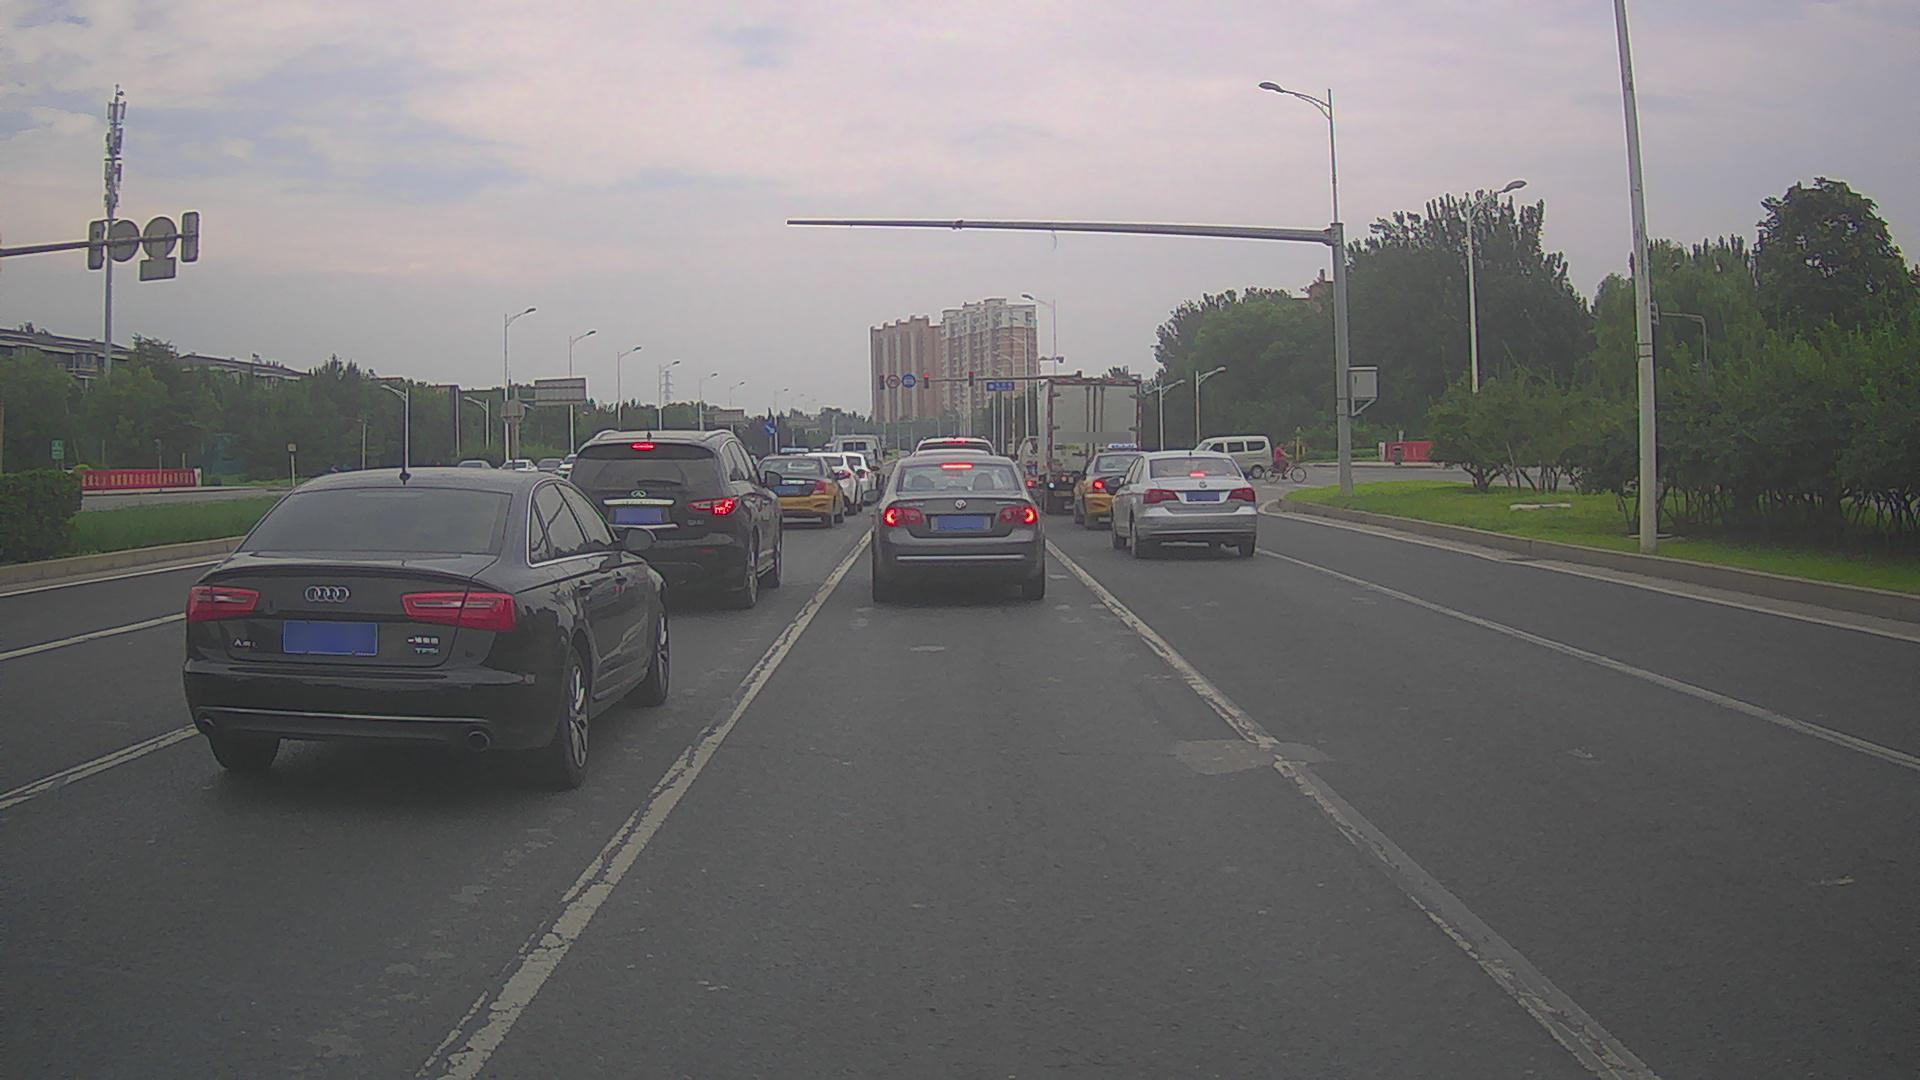car: (184, 469, 669, 791), (558, 428, 782, 609), (862, 454, 1045, 605), (1107, 450, 1258, 559), (1071, 442, 1165, 532), (754, 446, 845, 528), (783, 451, 864, 515), (814, 451, 879, 506), (554, 452, 592, 483), (498, 458, 538, 485), (531, 457, 565, 479)
cyclist: (1263, 440, 1306, 485)
ignore: (909, 434, 993, 457), (1014, 436, 1039, 503), (458, 459, 490, 468)
truck: (1036, 377, 1142, 514), (820, 435, 887, 491)
van: (1183, 434, 1272, 480)
